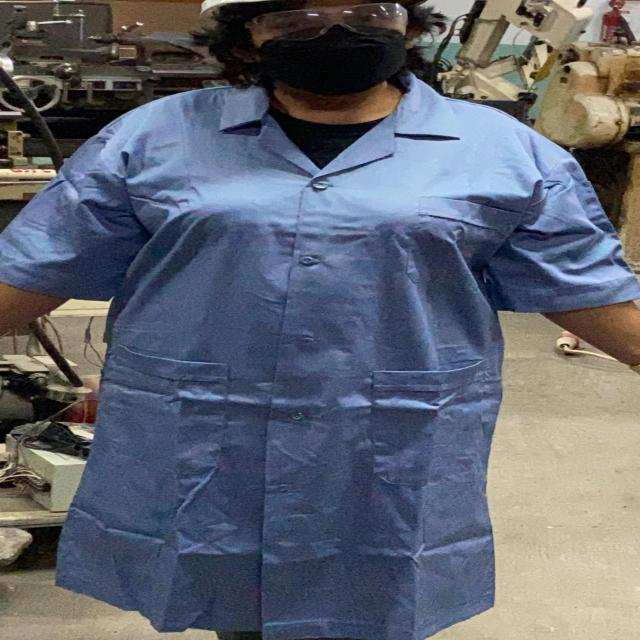face_mask: (248, 2, 423, 104)
glasses: (236, 0, 421, 41)
